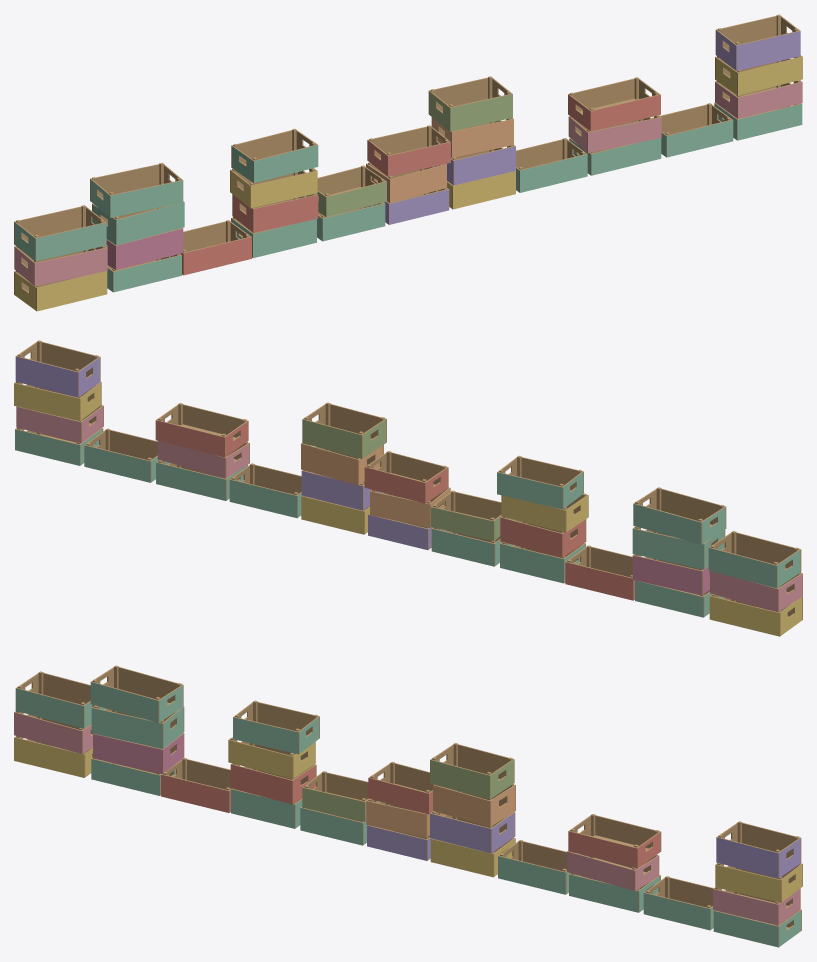
The model's file is Prop_TrayWall_South.fbx.
3 views of the same model, one above another, from view 1: azimuth 30°, elevation 25°; view 2: azimuth 150°, elevation 25°; view 3: azimuth 330°, elevation 25° (orthographic).
Parts seen in each view (by area): view 1: Prop_TrayWall_South; view 2: Prop_TrayWall_South; view 3: Prop_TrayWall_South.
Boxes of the visible parts, box(x1,y1,x2,y2) form: Prop_TrayWall_South: box(14, 14, 802, 311); Prop_TrayWall_South: box(14, 340, 802, 636); Prop_TrayWall_South: box(14, 665, 802, 947).
Bounding box in the file's own units: 18.71 × 2.39 × 1.13.
